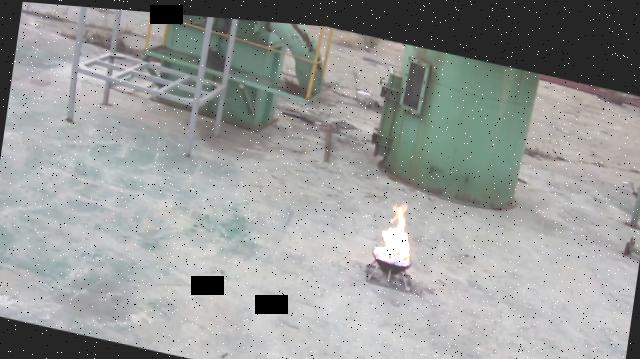fire: (376, 190, 418, 255)
